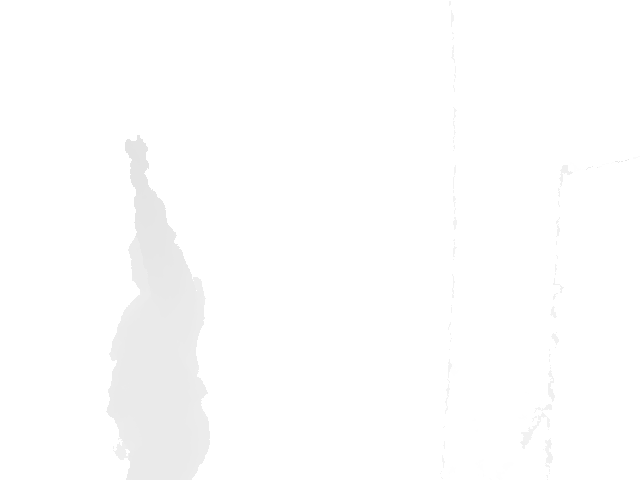hand: (124, 134, 151, 184)
head: (127, 225, 179, 288)
person: (106, 134, 213, 480)
